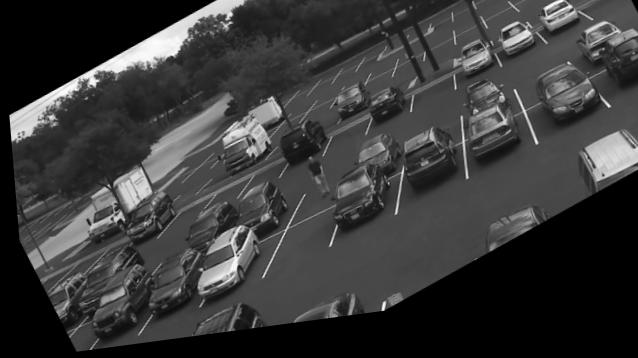empty: (377, 246, 464, 321), (255, 214, 325, 284), (508, 64, 559, 103), (405, 84, 454, 124), (576, 2, 628, 36), (157, 204, 205, 239), (296, 178, 332, 221), (200, 183, 247, 213), (323, 129, 364, 163), (182, 156, 221, 184), (59, 253, 99, 279), (480, 20, 519, 46), (240, 169, 279, 194), (412, 121, 449, 146), (510, 5, 548, 29), (387, 64, 422, 90), (137, 246, 174, 270), (421, 48, 455, 74), (561, 0, 600, 21), (453, 34, 485, 59), (297, 108, 331, 131), (61, 324, 87, 353), (269, 121, 301, 144), (396, 52, 425, 76), (449, 27, 482, 48), (505, 0, 538, 20), (476, 13, 509, 33), (449, 12, 476, 36), (366, 66, 396, 87), (357, 53, 382, 78), (282, 105, 312, 125), (423, 39, 450, 61), (341, 76, 368, 98), (524, 10, 552, 31), (37, 271, 63, 293), (310, 94, 339, 113), (331, 70, 356, 92), (364, 78, 392, 97), (470, 2, 498, 21), (427, 22, 451, 43), (284, 93, 311, 111), (309, 82, 332, 101), (307, 122, 334, 133), (542, 0, 572, 9), (386, 88, 407, 100), (495, 0, 517, 9)
occupied: (559, 142, 638, 214), (193, 231, 265, 304), (527, 73, 597, 142), (85, 268, 148, 343), (327, 170, 389, 241), (142, 252, 202, 322), (400, 136, 452, 207), (463, 111, 517, 177), (480, 212, 544, 265), (113, 195, 173, 251), (591, 41, 638, 108), (76, 249, 136, 301), (218, 121, 269, 182), (179, 206, 236, 257), (284, 296, 364, 331), (276, 129, 326, 182), (233, 188, 285, 237), (42, 274, 79, 325), (354, 144, 398, 186), (574, 38, 619, 76), (536, 13, 579, 52), (365, 98, 404, 136), (329, 91, 368, 129), (498, 35, 533, 71), (458, 52, 491, 90), (463, 94, 498, 124)
